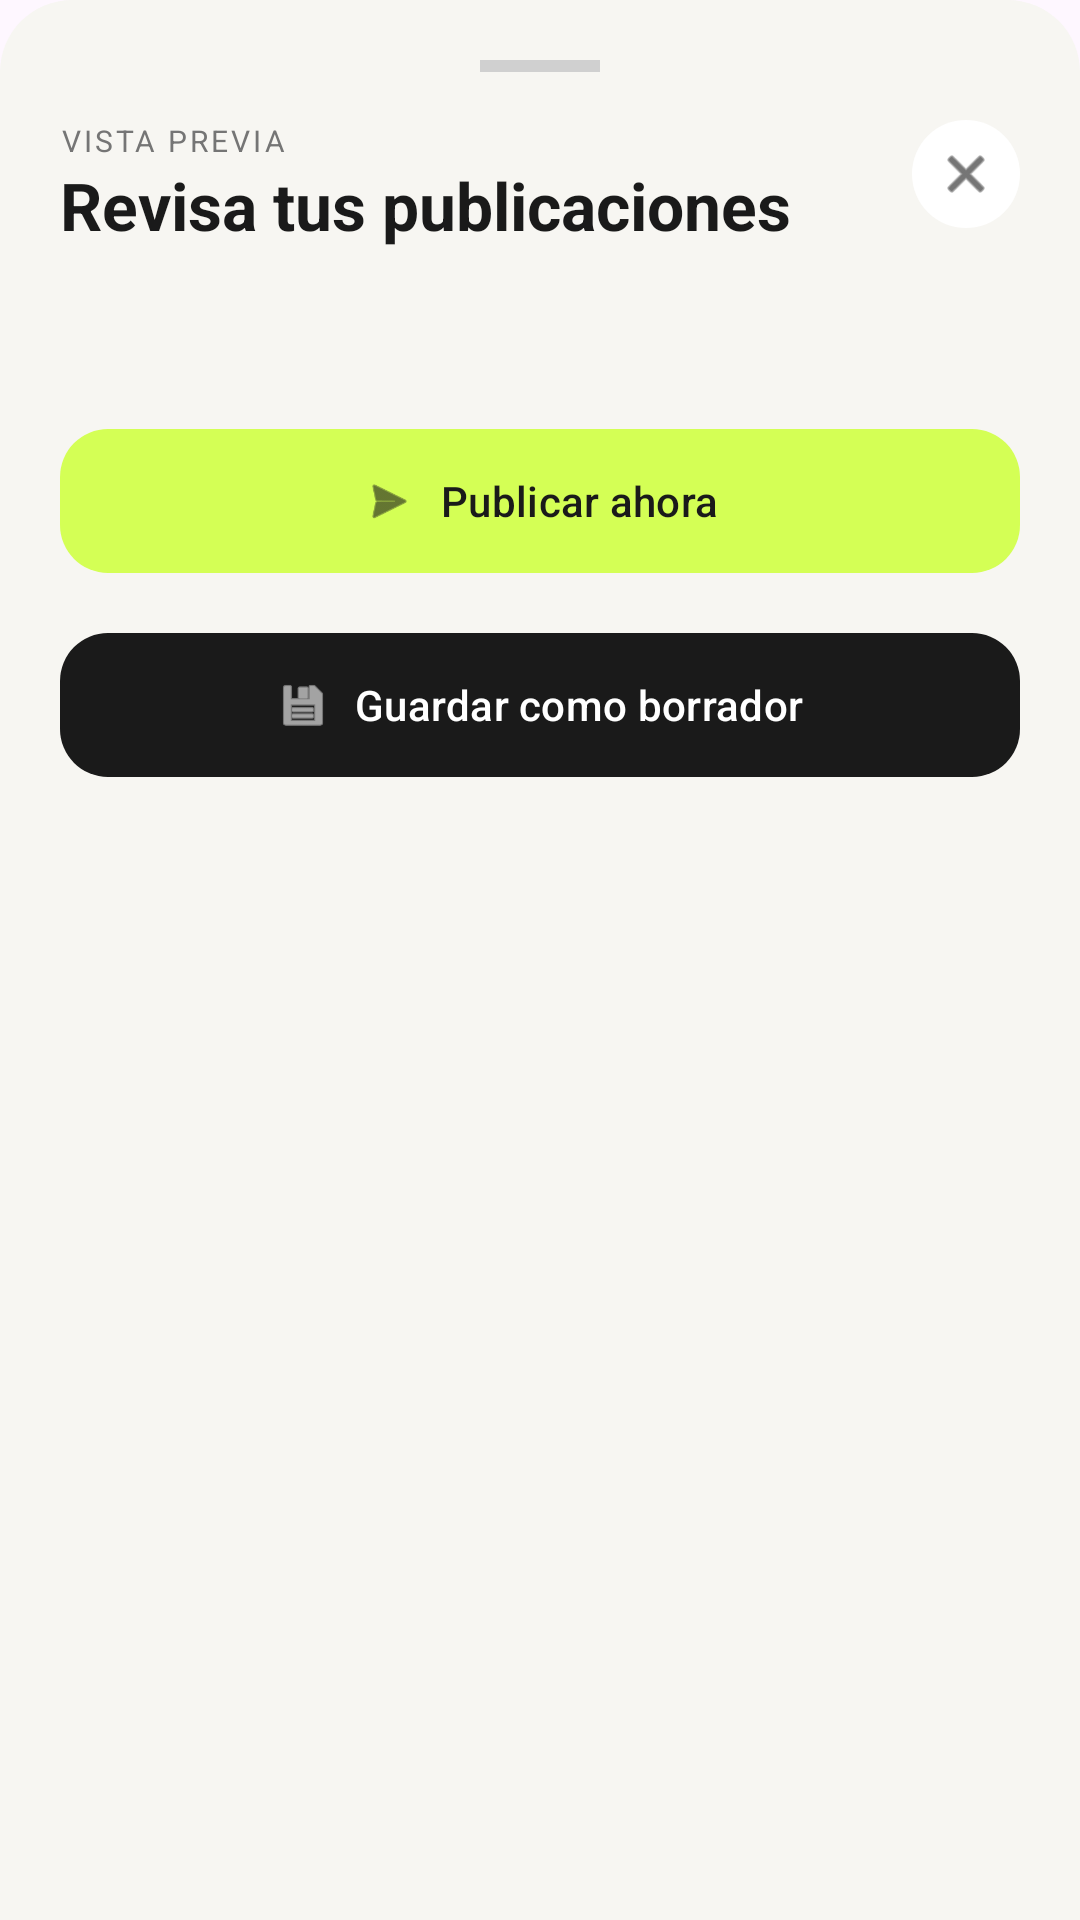

Point at icon controls on the screen. Image size 1080x1920, points as (x,y).
close clear cancel: (966,174)
